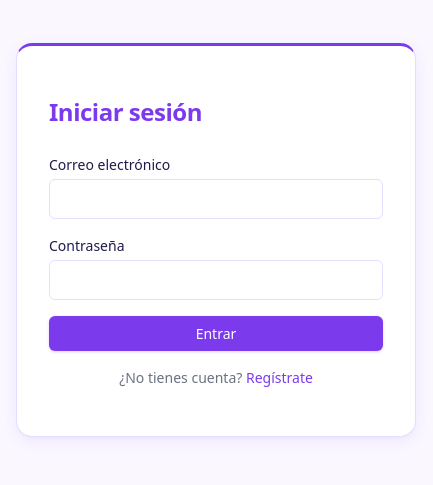
Test: LoginPage › shows error message when login fails
Type "a@b.com" into the field labelled "Correo electrónico" at coordinates (216, 199), box left=49, top=179, right=383, bottom=219
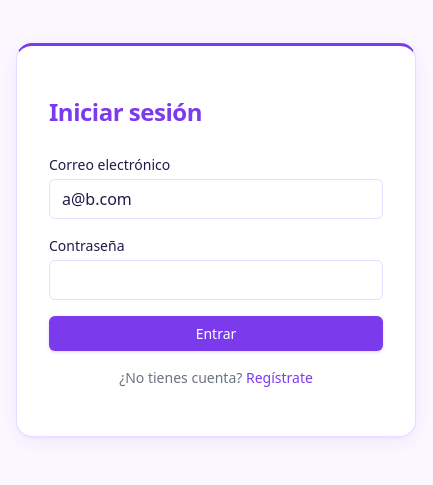
Type "wrong" into the password field labelled "Contraseña" at coordinates (216, 280), box left=49, top=260, right=383, bottom=300
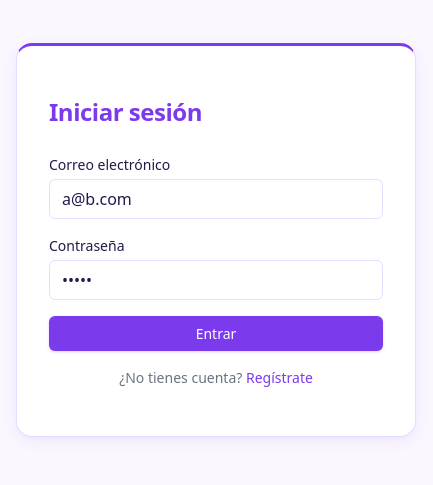
Click the button "Entrar" at coordinates (216, 334), box left=49, top=316, right=383, bottom=351
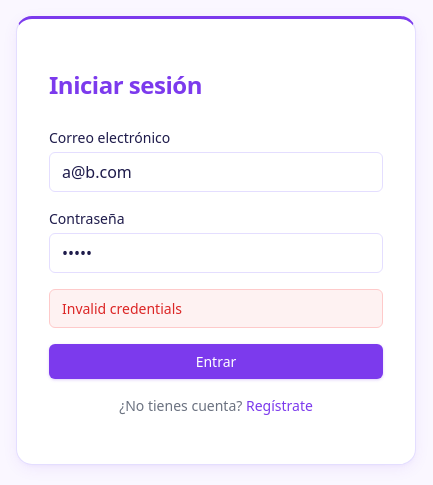
Expected: the text "Invalid credentials" is shown, left=49, top=288, right=383, bottom=328
